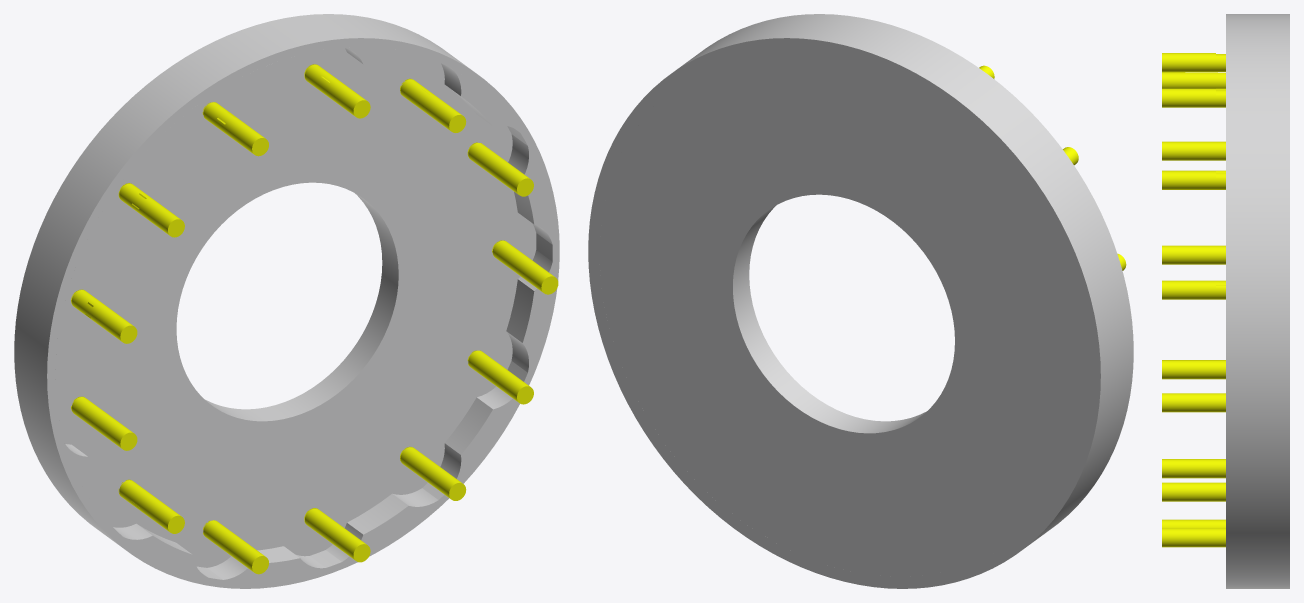
Rendered from case.obj.
3 views of the same model, side by side, from view 1: azimuth 30°, elevation 25°; view 2: azimuth 150°, elevation 25°; view 3: azimuth 270°, elevation 25° (orthographic). The views are drawn at different scales.
Visible parts, largest first — view 1: Body31, Body18, Body21, Body23, Body26, Body27, Body24, Body28, Body20, Body25, Body17, Body19 (+2 smaller); view 2: Body31; view 3: Body31, Body17, Body18, Body20, Body21, Body22, Body24, Body25, Body26, Body28, Body29, Body19 (+2 smaller).
Part boxes in pixels (bbox=[...]): Body31: bbox=[14, 14, 559, 588]; Body18: bbox=[71, 289, 137, 343]; Body21: bbox=[492, 240, 558, 294]; Body23: bbox=[304, 508, 370, 562]; Body26: bbox=[304, 64, 370, 118]; Body27: bbox=[118, 183, 184, 237]; Body24: bbox=[467, 350, 533, 404]; Body28: bbox=[71, 396, 137, 450]; Body20: bbox=[400, 78, 466, 132]; Body25: bbox=[467, 142, 533, 196]; Body17: bbox=[118, 479, 184, 533]; Body19: bbox=[202, 102, 268, 156]; Body31: bbox=[588, 14, 1133, 588]; Body31: bbox=[1226, 14, 1289, 588]; Body17: bbox=[1162, 360, 1225, 379]; Body18: bbox=[1162, 141, 1225, 160]; Body20: bbox=[1162, 170, 1225, 189]; Body21: bbox=[1162, 393, 1225, 412]; Body22: bbox=[1162, 528, 1225, 547]; Body24: bbox=[1162, 482, 1225, 501]; Body25: bbox=[1162, 280, 1225, 299]; Body26: bbox=[1162, 88, 1225, 107]; Body28: bbox=[1162, 245, 1225, 264]; Body29: bbox=[1162, 459, 1225, 478]; Body19: bbox=[1162, 53, 1225, 71].
Bounding box in the file's own units: 180 × 180 × 40.
